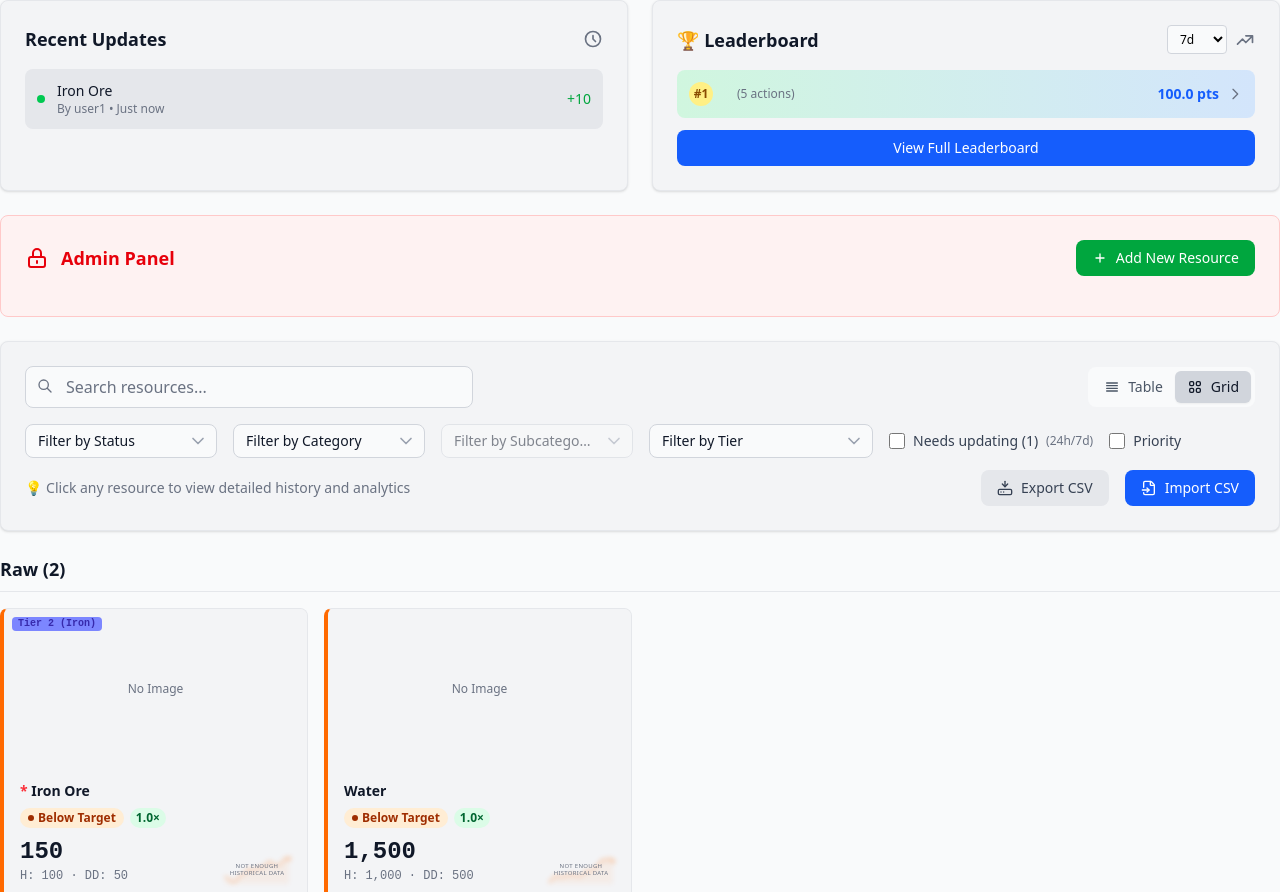
Test: ResourceTable › filters resources by 'No Tier'
This screenshot has width=1280, height=892.
Expected: the heading "Recent Updates" is shown, [25,25,166,53]
Click the button "Table" at (1134, 387), box [1092,371,1175,403]
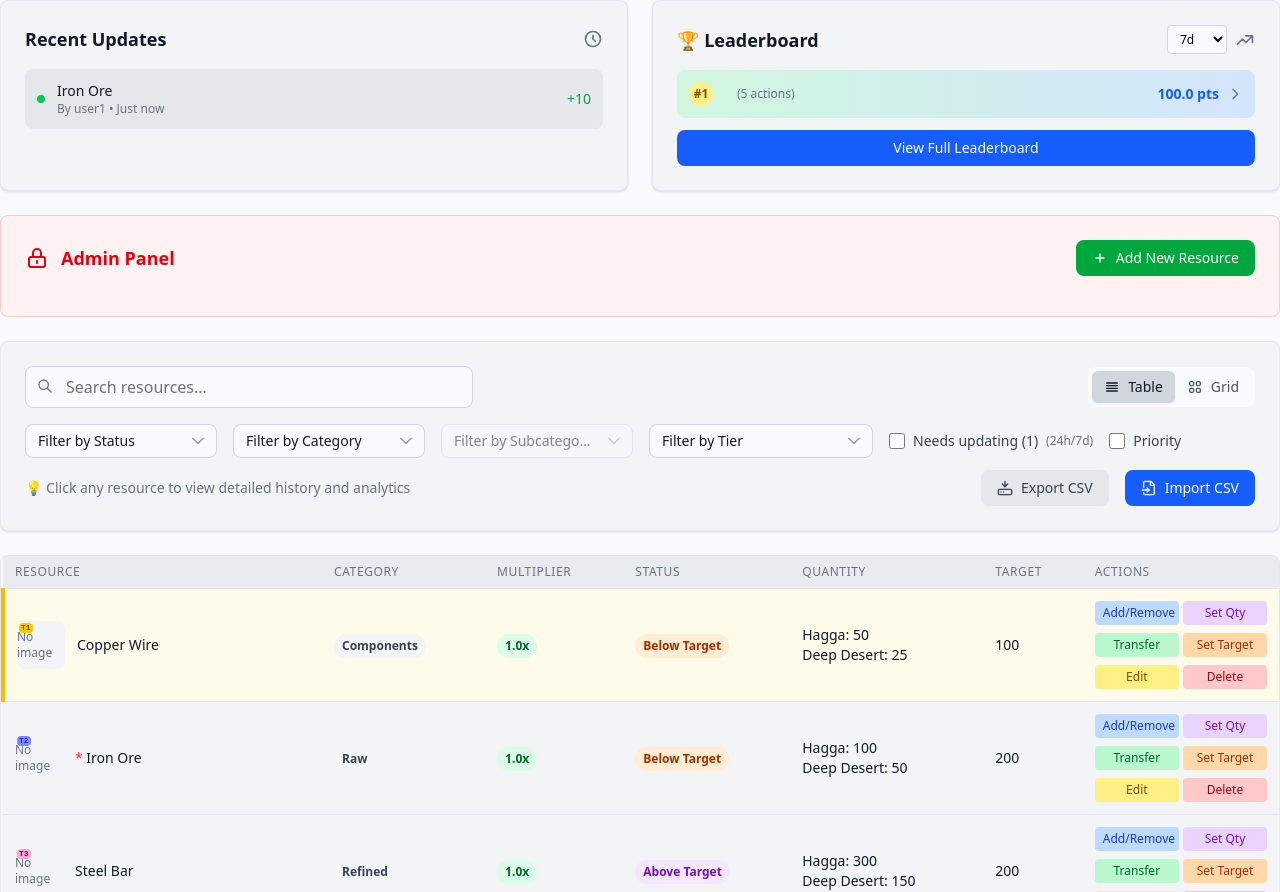
Click the button with test id "tier-filter" at (761, 441), box [649,424,873,458]
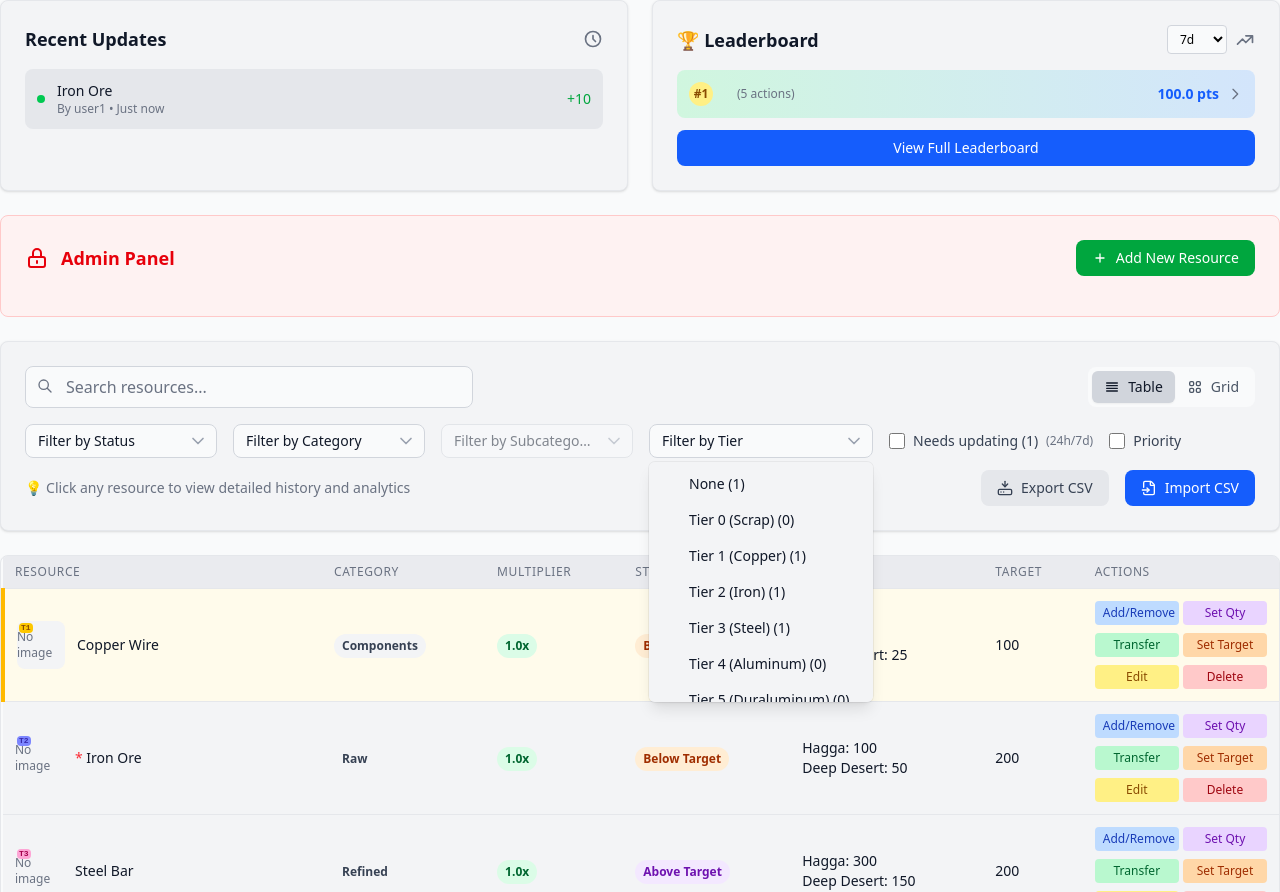
Click the option "None (1)" at (717, 484), box [689,474,745,493]
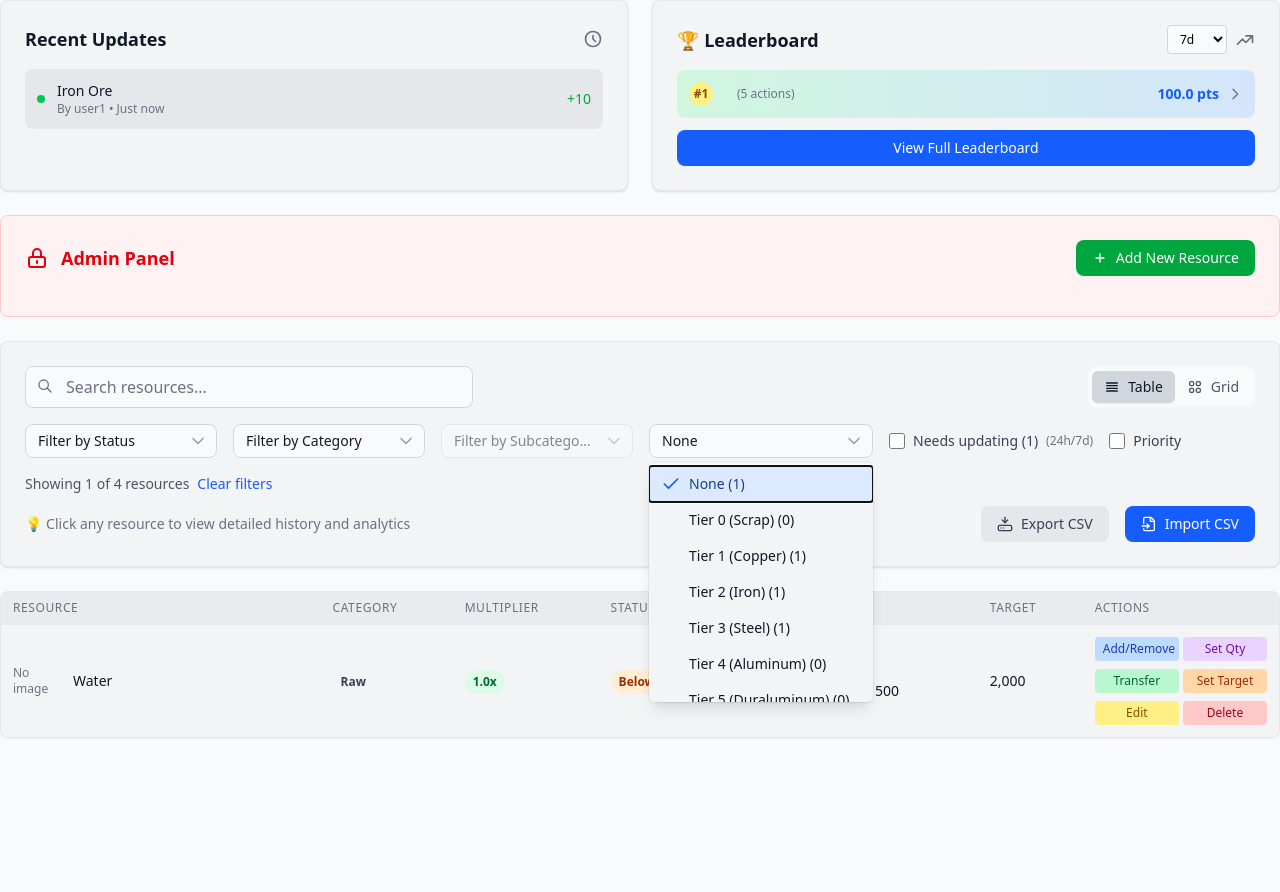
Expected: the text "Water" is shown, [73,671,112,690]
Now the text "Copper Wire" is gone
Now the text "Steel Bar" is gone
